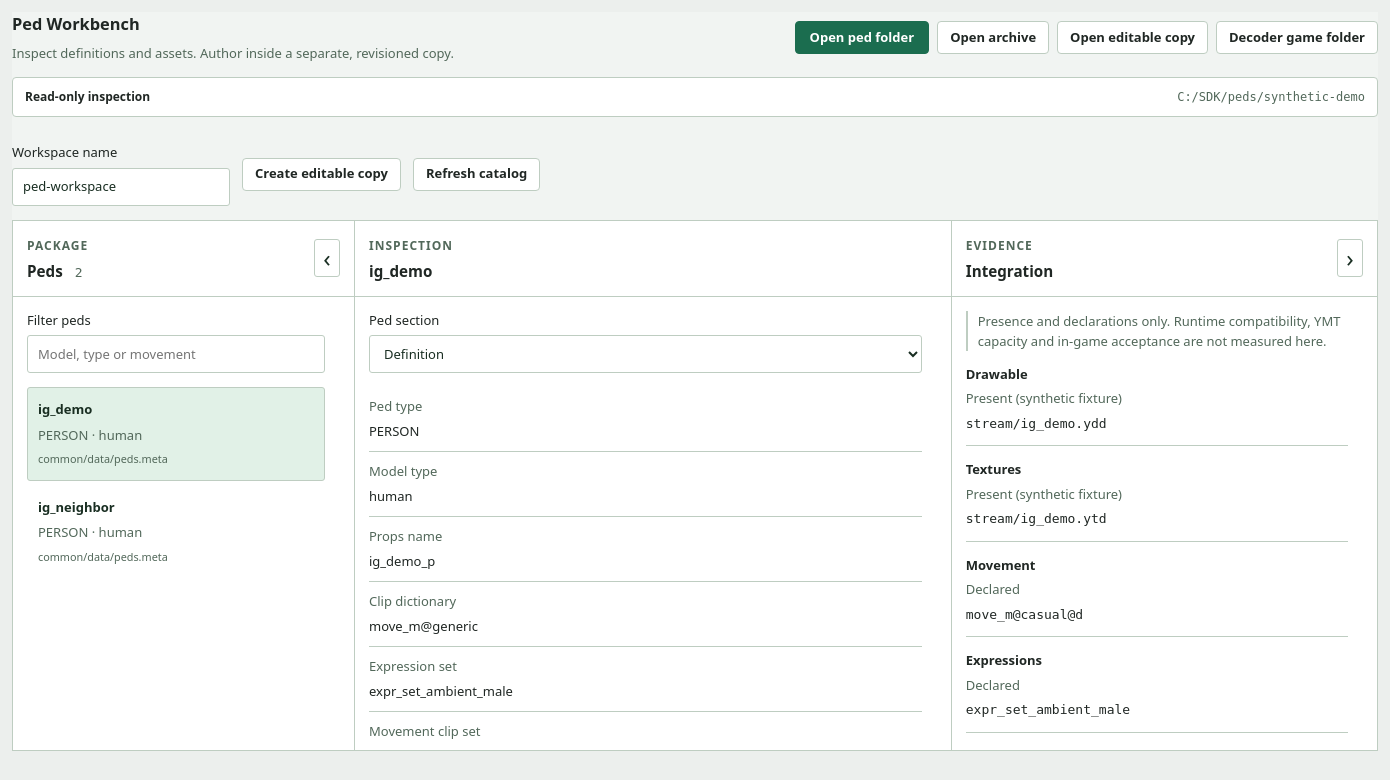
inspects definitions, filters the catalog and reverses both pane toggles
The image size is (1390, 780).
Check: the heading "ig_demo" is shown, box [369, 261, 432, 281]
Type "neighbor" into the field labelled "Filter peds".
click(176, 354); type("neighbor")  # box [27, 335, 325, 373]
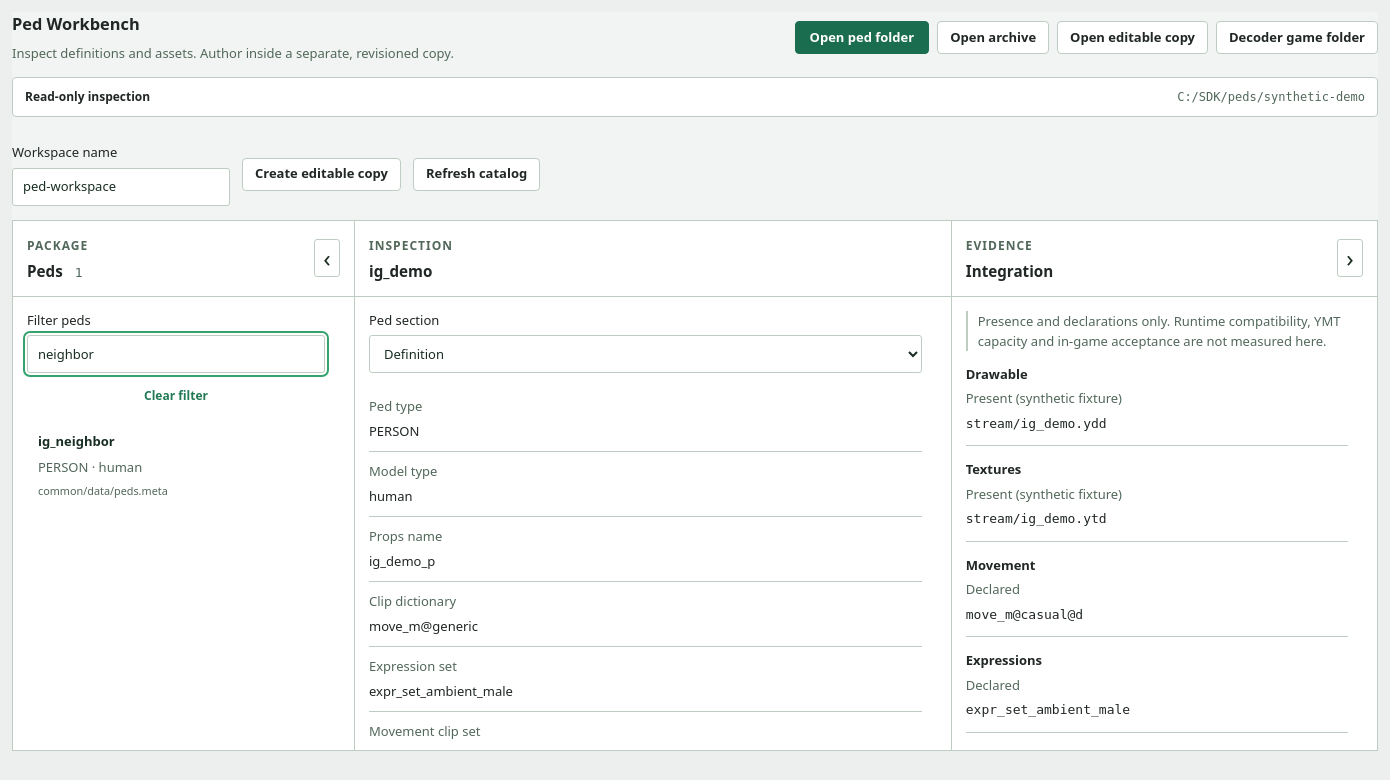
Check: the button "ig_demo PERSON" is gone
Click the button named "Collapse ped catalog".
click(327, 258)  # box [314, 239, 340, 277]
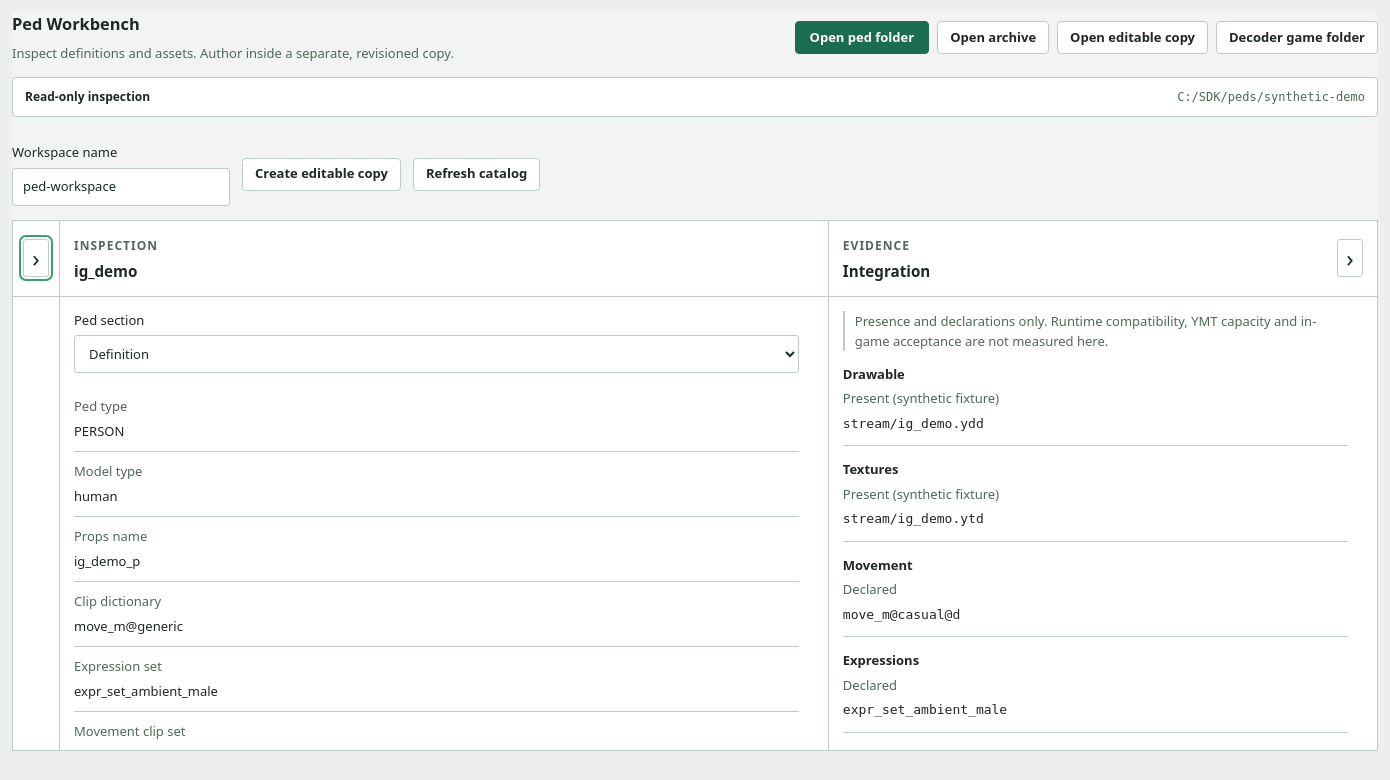
Check: the button named "Expand ped catalog" reads "›"
Click the button named "Expand ped catalog".
click(36, 258)  # box [23, 239, 49, 277]
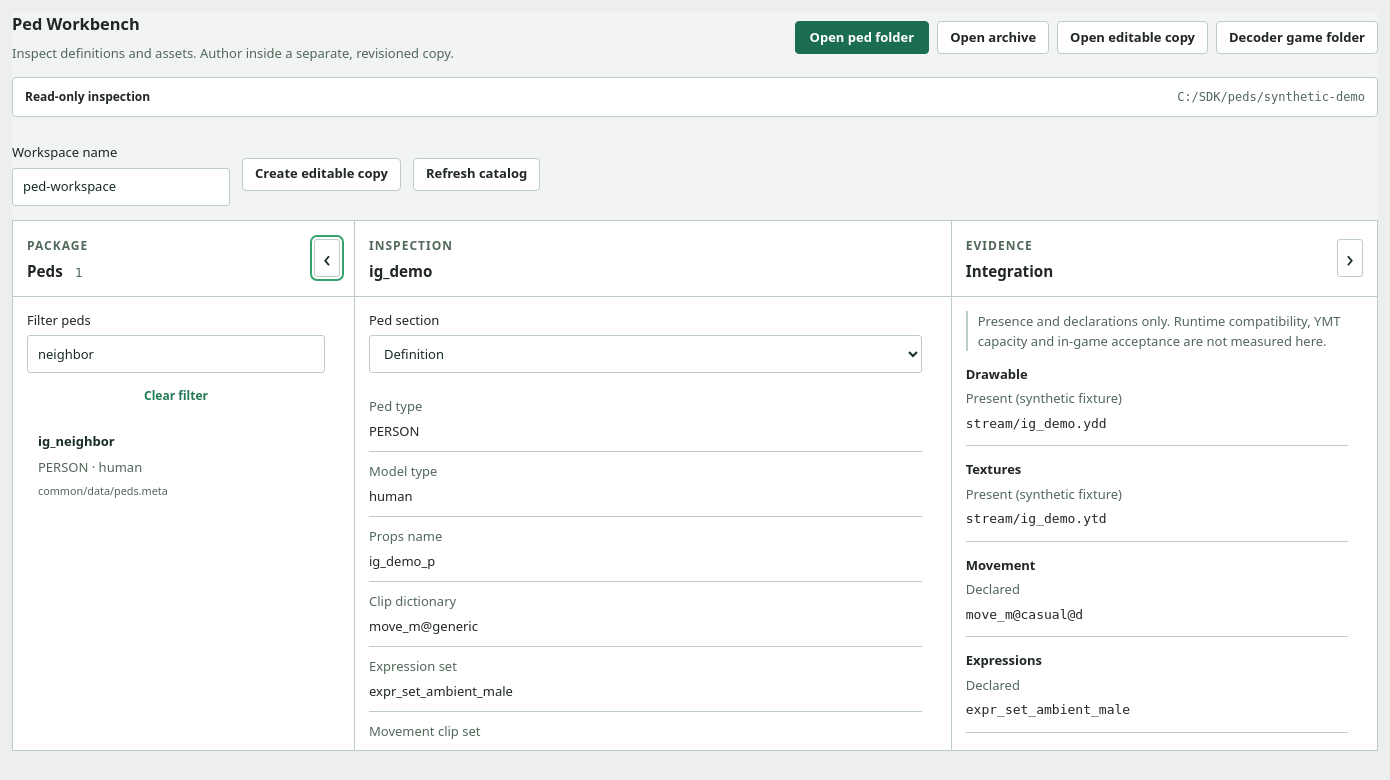
Click the button named "Collapse ped integration".
click(1350, 258)  # box [1337, 239, 1363, 277]
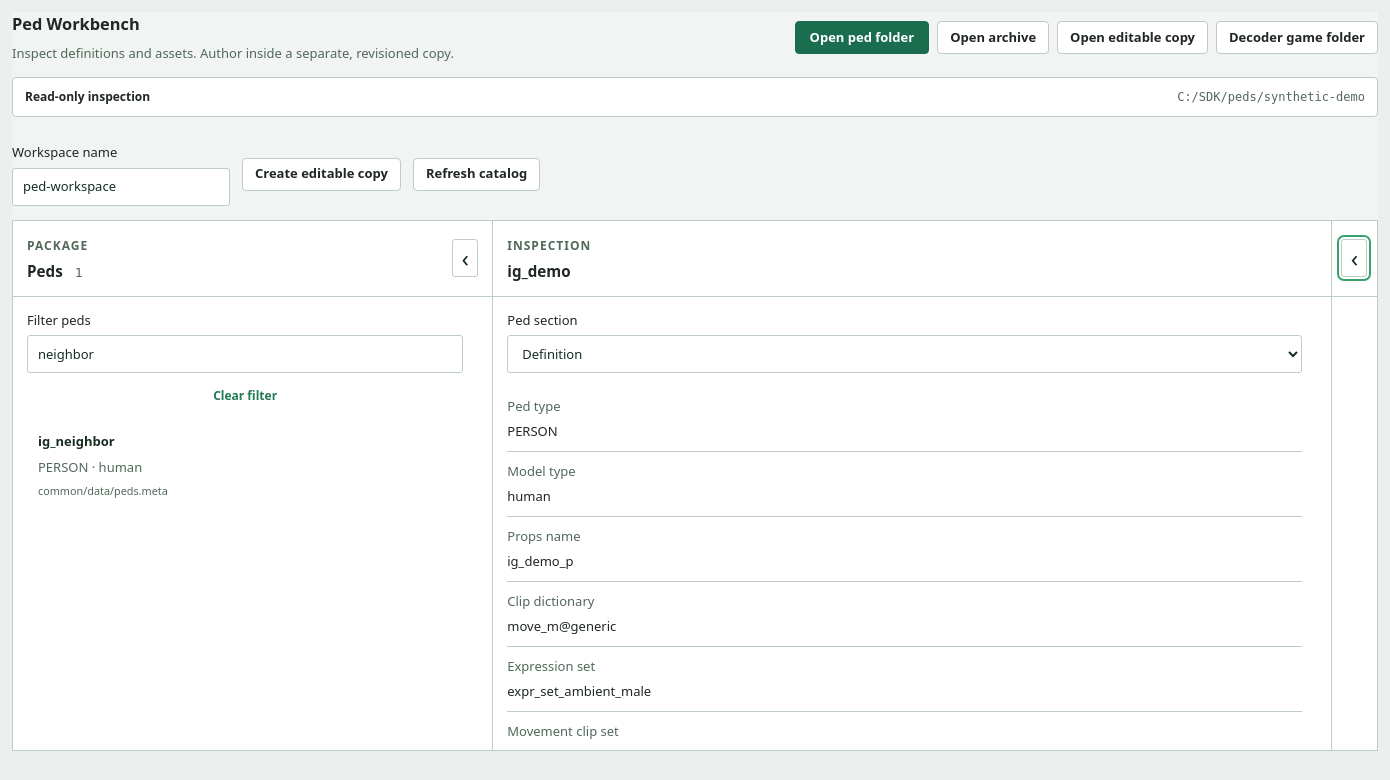
Check: the button named "Expand ped integration" reads "‹", box [1342, 239, 1368, 277]
